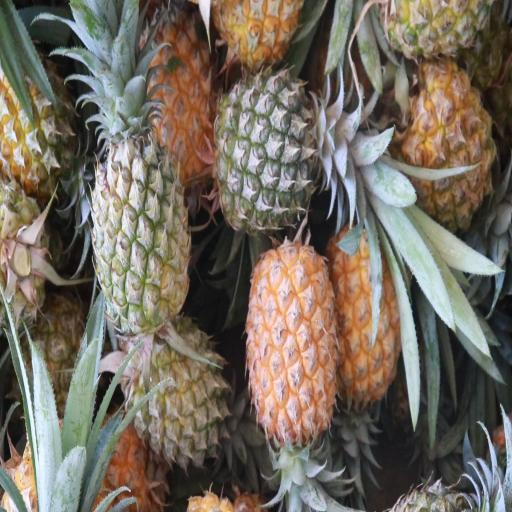------------------------------: (91, 120, 188, 320), (130, 314, 224, 456)
Pineapple - v8 v1: (247, 239, 337, 441), (403, 62, 492, 221), (134, 0, 218, 166), (332, 222, 407, 398)
